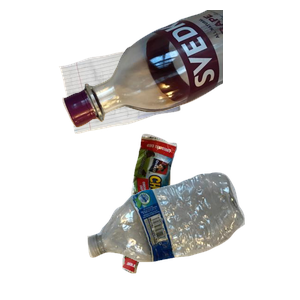glass: (60, 10, 300, 130)
paper: (56, 40, 229, 166)
plastic: (85, 170, 300, 300)
trash: (120, 131, 290, 300)
